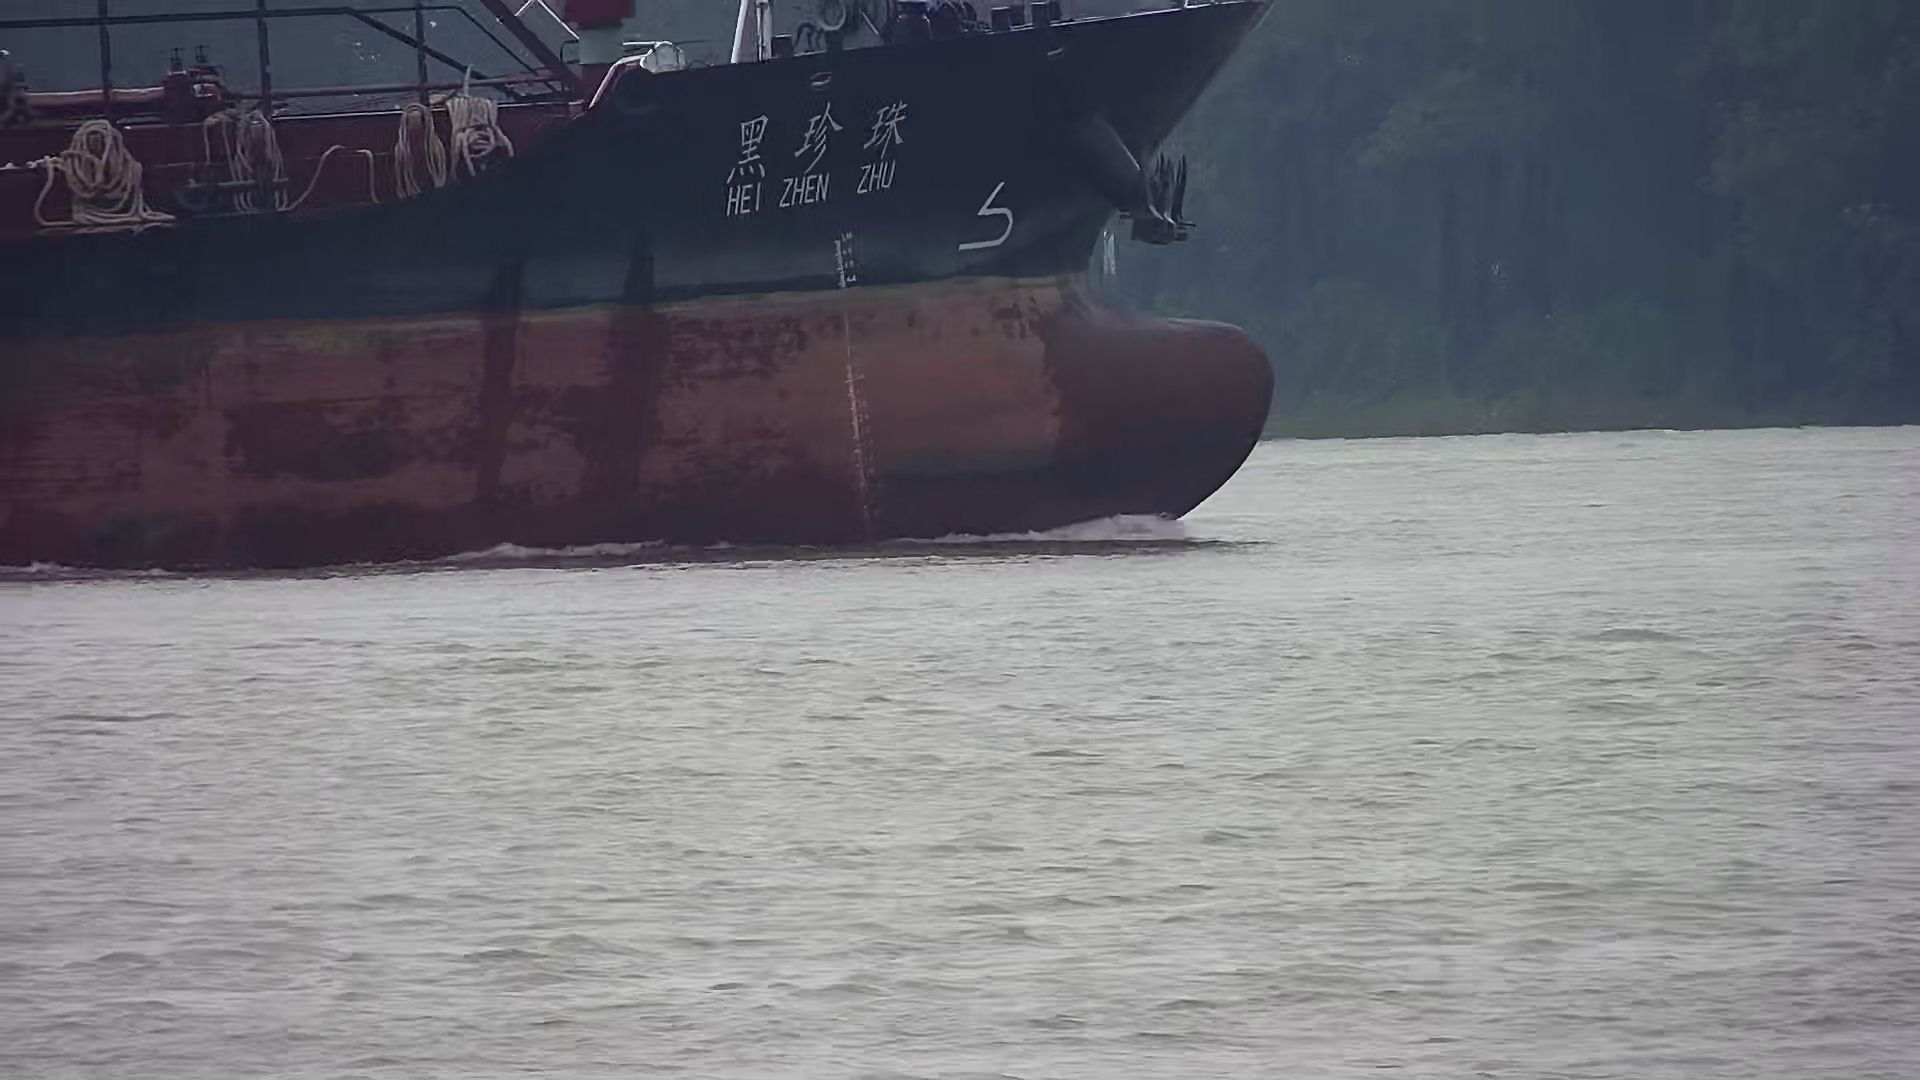ship: (1, 1, 1274, 572)
